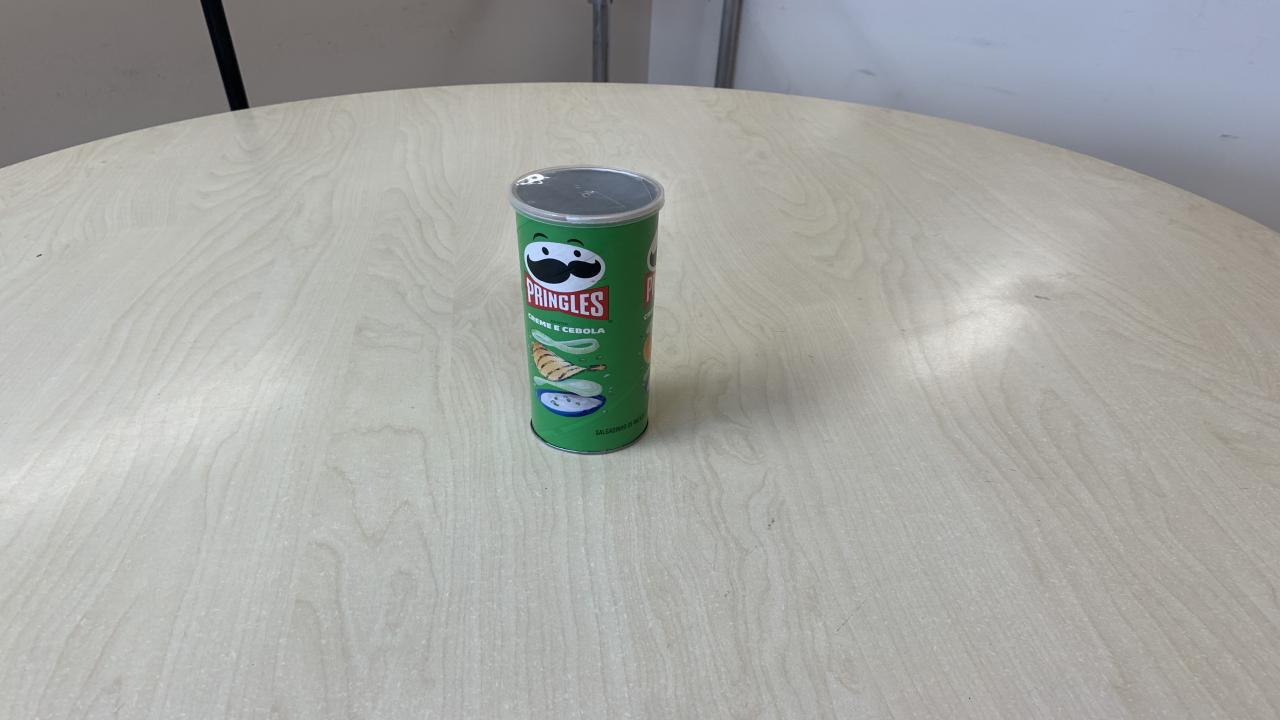Pringles-Snacks: (510, 168, 665, 458)
